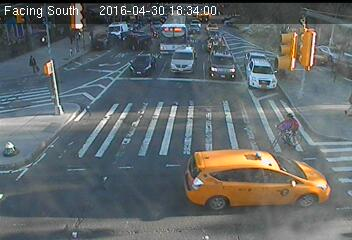neg: (269, 105, 300, 146), (170, 144, 194, 176), (166, 44, 188, 74), (2, 133, 23, 161), (215, 64, 234, 89), (255, 163, 272, 186), (166, 100, 182, 122), (271, 22, 287, 44), (121, 18, 136, 38), (134, 54, 148, 73), (55, 87, 69, 105), (210, 8, 222, 24)
pos: (325, 54, 346, 82), (23, 52, 39, 73), (65, 27, 80, 46), (84, 29, 96, 45)
